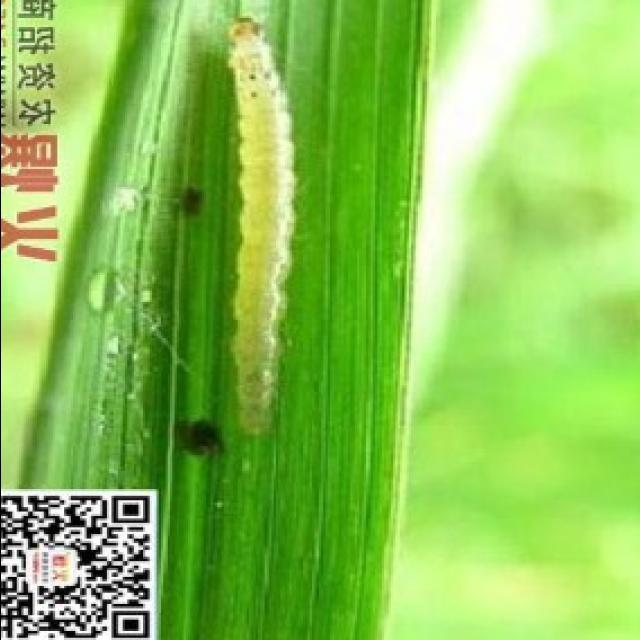rice leaf roller: (230, 16, 295, 435)
